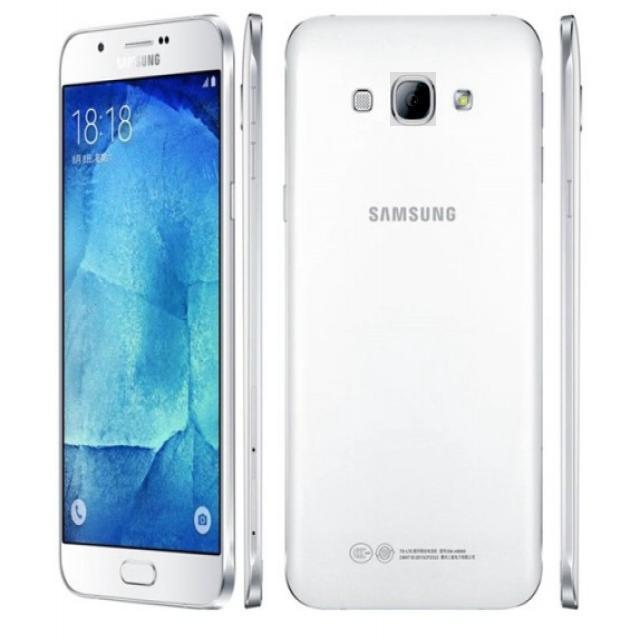phone: (277, 6, 549, 619), (53, 13, 242, 614)
